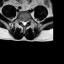CCS_normal: (23, 19, 25, 27)
LFS_normal: (26, 18, 28, 24)
LLS_normal: (25, 19, 26, 26)
RFS_stenosis: (20, 17, 21, 23)
RLS_normal: (21, 19, 23, 26)
